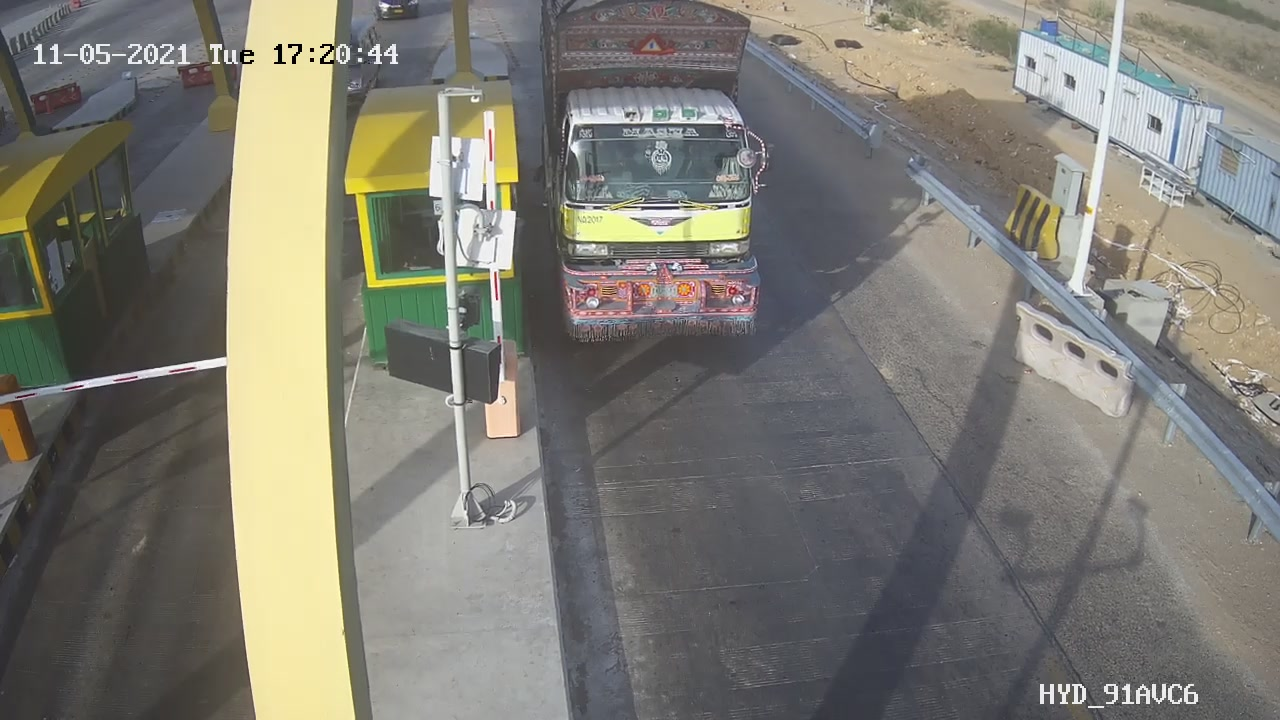F6: (525, 1, 786, 357)
